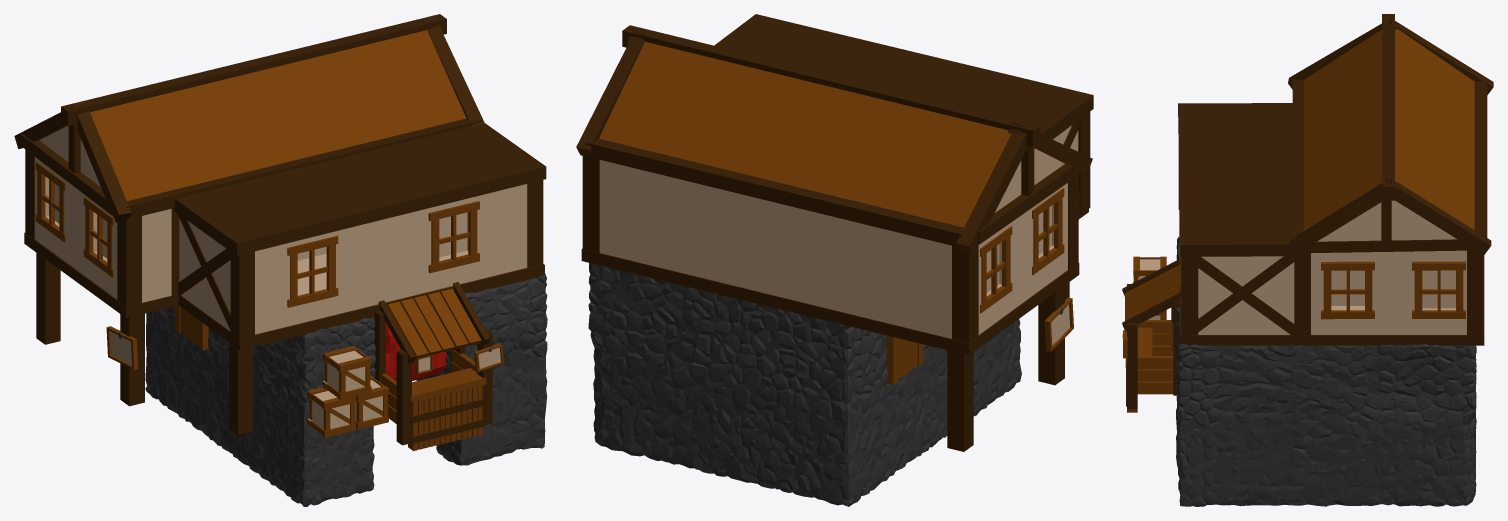
File: resturant modle.fbx
3 views of the same model, side by side, from view 1: azimuth 30°, elevation 25°; view 2: azimuth 150°, elevation 25°; view 3: azimuth 270°, elevation 25° (orthographic). The views are drawn at different scales.
Parts seen in each view (by area): view 1: Cube.002, Cube, Cube.008, Cube.001, Cube.014, Cube.012, Cube.049, Cube.013, Cube.007, Cube.023, Cube.059, Cube.018 (+31 smaller); view 2: Cube.002, Cube, Cube.008, Cube.011, Cube.001, Cube.014, Cube.006, Cube.003, Cube.017, Cube.010, Cube.067, Cube.022 (+9 smaller); view 3: Cube, Cube.002, Cube.008, Cube.001, Cube.014, Cube.011, Cube.021, Cube.020, Cube.010, Cube.012, Cube.070, Cube.009 (+15 smaller).
Part boxes in pixels (left/top/right/bottom): Cube.002: left=35, top=30, right=527, bottom=334; Cube: left=145, top=273, right=547, bottom=506; Cube.008: left=173, top=123, right=546, bottom=255; Cube.001: left=24, top=232, right=544, bottom=350; Cube.014: left=61, top=14, right=446, bottom=126; Cube.012: left=126, top=118, right=481, bottom=219; Cube.049: left=408, top=385, right=482, bottom=450; Cube.013: left=230, top=251, right=254, bottom=346; Cube.007: left=72, top=101, right=131, bottom=222; Cube.023: left=428, top=201, right=479, bottom=273; Cube.059: left=322, top=346, right=371, bottom=399; Cube.018: left=117, top=216, right=141, bottom=306; Cube.002: left=599, top=41, right=1078, bottom=338; Cube: left=588, top=263, right=1021, bottom=506; Cube.008: left=714, top=14, right=1093, bottom=139; Cube.011: left=585, top=138, right=963, bottom=246; Cube.001: left=581, top=207, right=1088, bottom=355; Cube.014: left=622, top=25, right=1040, bottom=146; Cube.006: left=956, top=132, right=1028, bottom=254; Cube.003: left=947, top=350, right=973, bottom=451; Cube.017: left=952, top=245, right=978, bottom=343; Cube.010: left=576, top=28, right=649, bottom=158; Cube.067: left=977, top=164, right=1079, bottom=244; Cube.022: left=1032, top=188, right=1064, bottom=275; Cube: left=1175, top=236, right=1476, bottom=506; Cube.002: left=1198, top=29, right=1474, bottom=334; Cube.008: left=1178, top=103, right=1302, bottom=256; Cube.001: left=1179, top=203, right=1484, bottom=345; Cube.014: left=1382, top=14, right=1394, bottom=200; Cube.011: left=1474, top=81, right=1487, bottom=240; Cube.021: left=1412, top=261, right=1465, bottom=318; Cube.020: left=1321, top=261, right=1374, bottom=319; Cube.010: left=1386, top=176, right=1491, bottom=255; Cube.012: left=1292, top=78, right=1303, bottom=240; Cube.070: left=1302, top=239, right=1474, bottom=253; Cube.009: left=1289, top=177, right=1398, bottom=254.
Size of the model in its own units: 2836 by 2513 by 2572.
